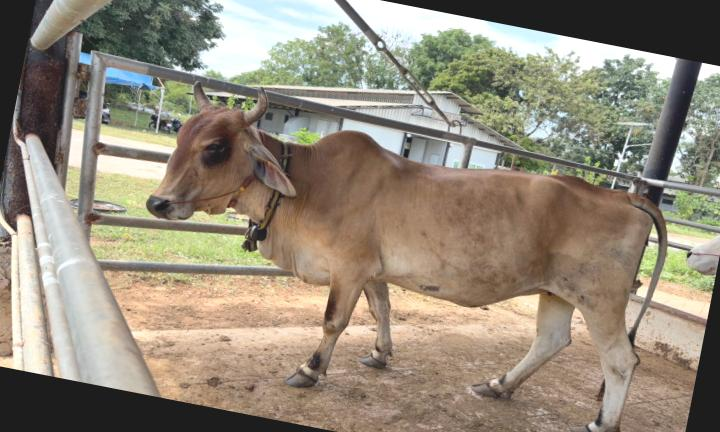Brahman: (146, 81, 666, 432)
